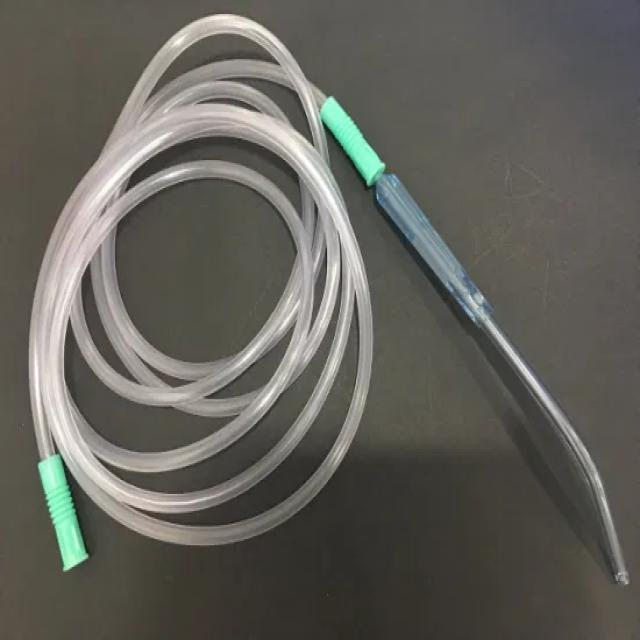Suction Tube Nozzle: (28, 7, 634, 600)
